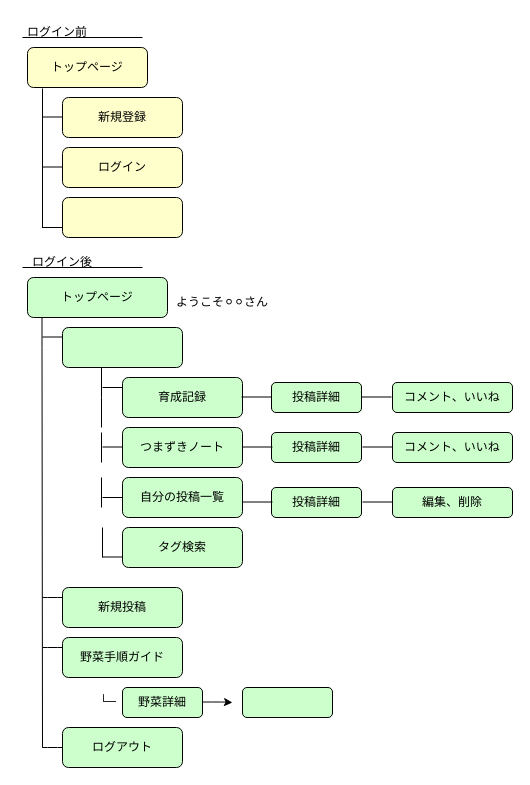
The diagram is 530 pixels wide and 785 high, and some of its shapes have lost their labels. The box of each missing label's shape, as (x1, y1, x2, y2) in pixels:
投稿一覧: (62, 196, 182, 238)
投稿一覧ページ: (62, 326, 182, 368)
育成ステップ: (242, 686, 332, 718)
